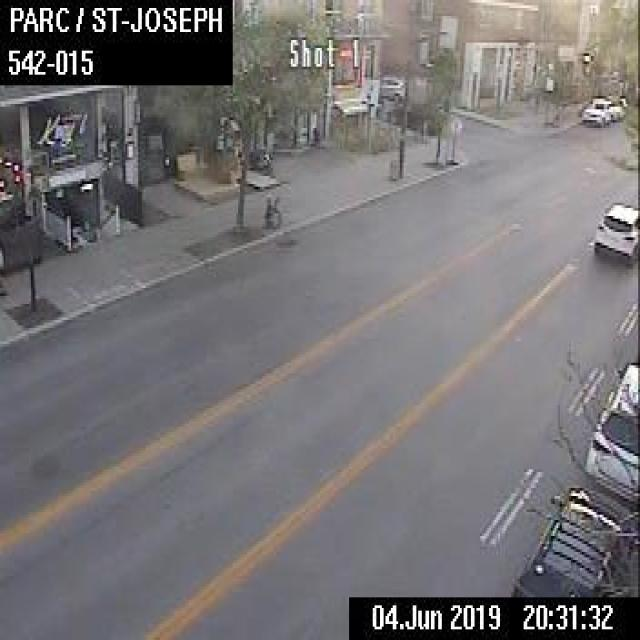vehicle: (509, 480, 631, 595), (582, 358, 638, 502), (589, 197, 638, 267), (389, 100, 441, 133), (580, 94, 610, 125), (378, 72, 406, 101), (609, 94, 627, 119), (635, 496, 638, 499)
